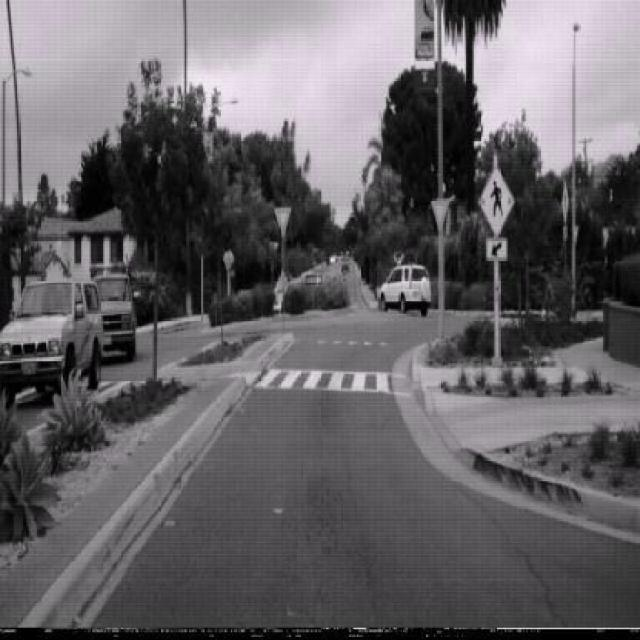pedestrianCrossing: (478, 163, 517, 238)
yield: (431, 195, 450, 230), (274, 206, 291, 237)
